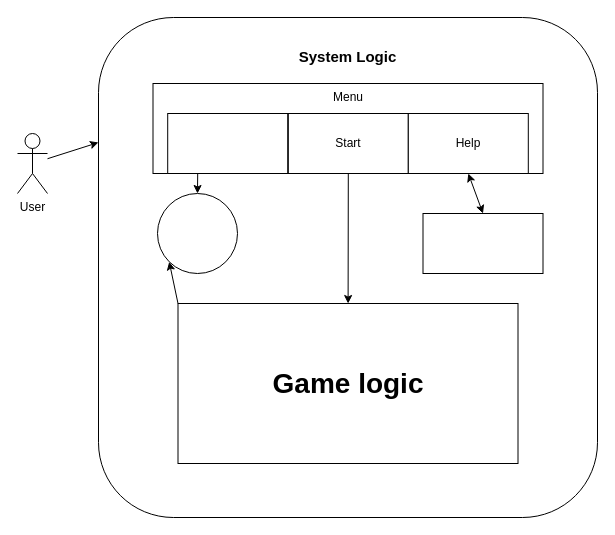
This 615x535 diagram has some shape labels left out. The centre of each missing label's shape, as x and y in pixels:
"Help Screen" belongs at [482,243].
"Program Closes" belongs at [197,233].
"Quit" belongs at [227,143].
